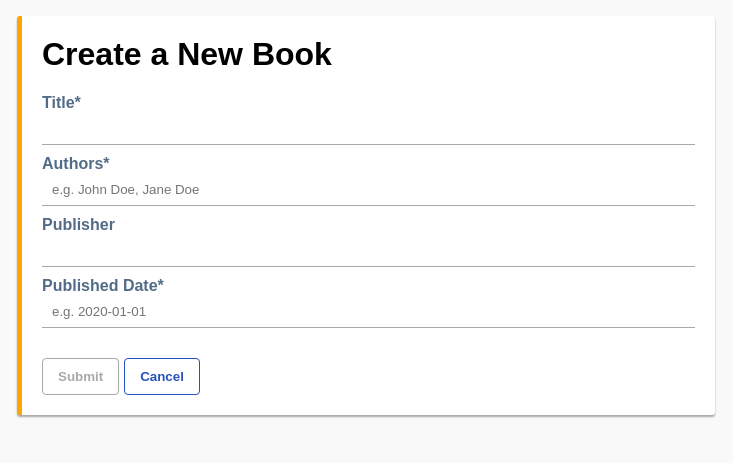
AddBookForm › should be unable to submit the form
Expected: the button "Submit" is disabled, [42,358,119,395]
In the field labelled "Title*": x=368, y=128 [42,112,695,144], type "Title"
In the field labelled "Authors*": x=368, y=189 [42,173,695,205], type "John Doe, Jane Doe"
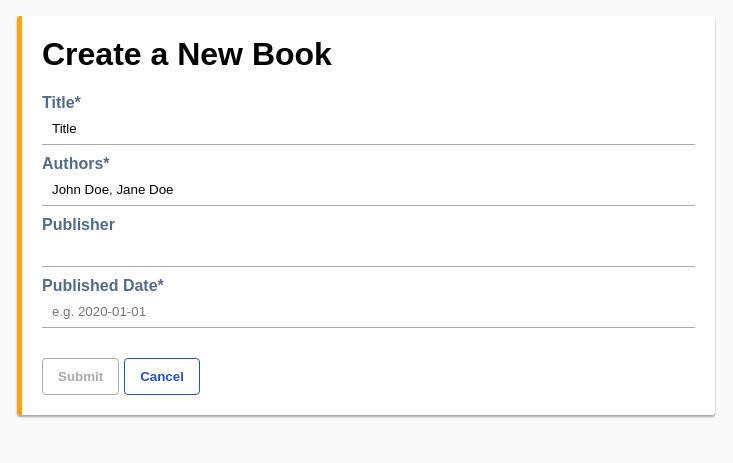
In the field labelled "Publisher": x=368, y=250 [42,234,695,266], type "Publisher"
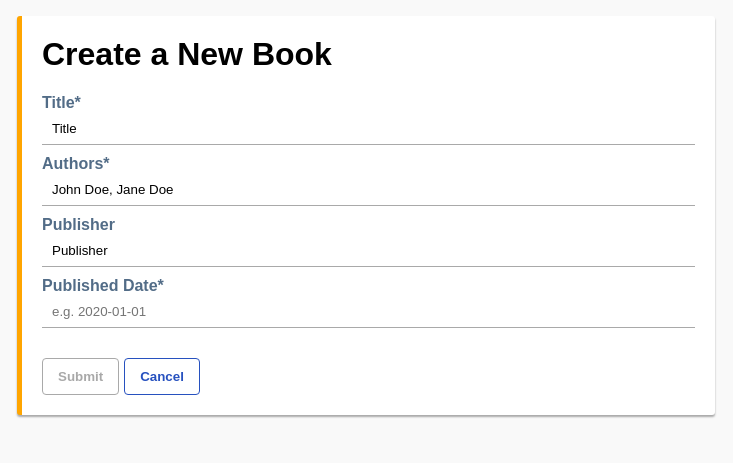
In the field labelled "Published Date*": x=368, y=311 [42,295,695,327], type "2020"
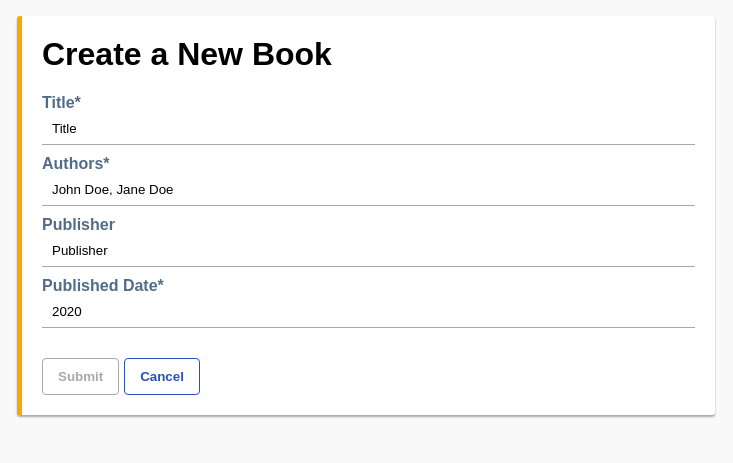
Leave the field labelled "Published Date*", box [42,295,695,327]
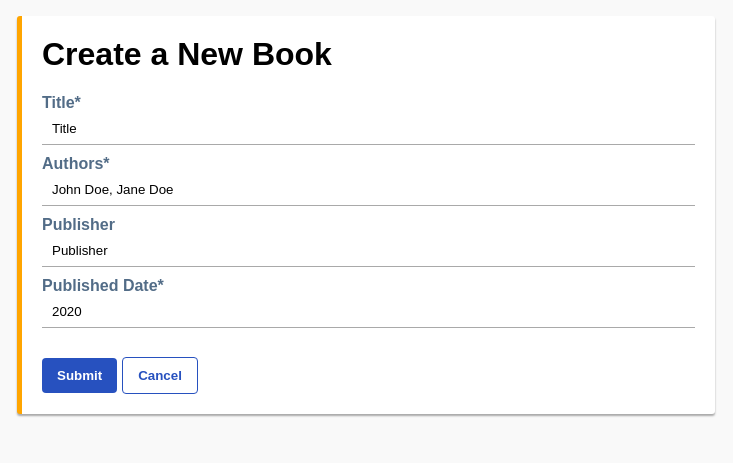
Expected: the button "Submit" is enabled, [42,358,117,393]
Clear the field labelled "Published Date*": x=368, y=311 [42,295,695,327]
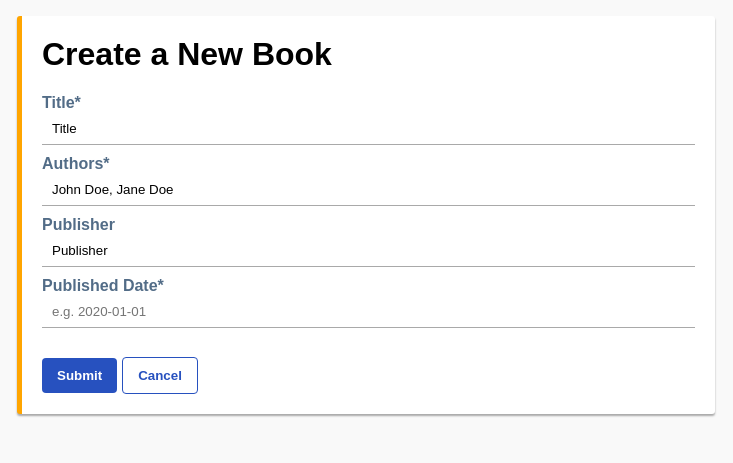
Leave the field labelled "Published Date*", box [42,295,695,327]
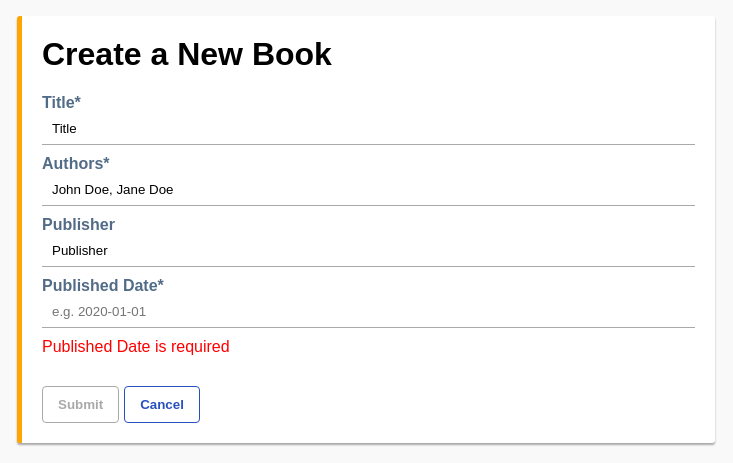
Expected: the button "Submit" is disabled, [42,386,119,423]
